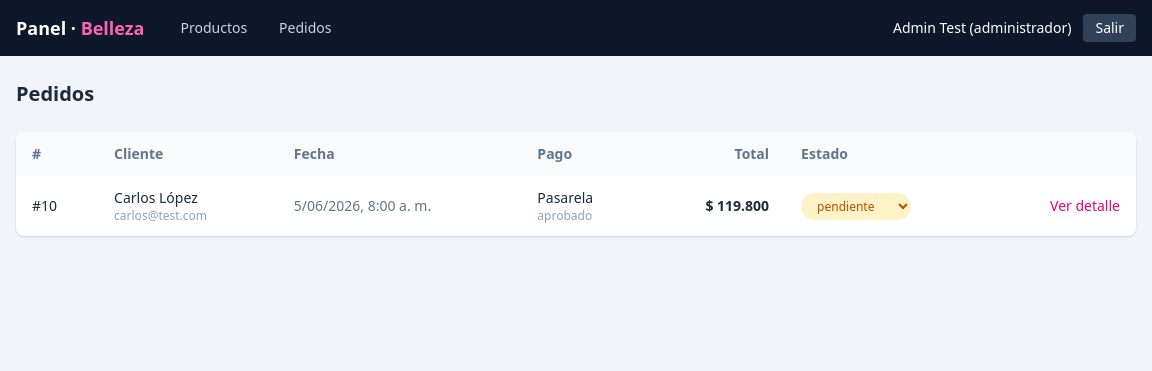
it: OrdersAdminPage › expande el detalle del pedido al hacer clic en 'Ver detalle'
The image size is (1152, 371).
Click the button "Ver detalle" at x=1085, y=206, box [1050, 196, 1120, 216]
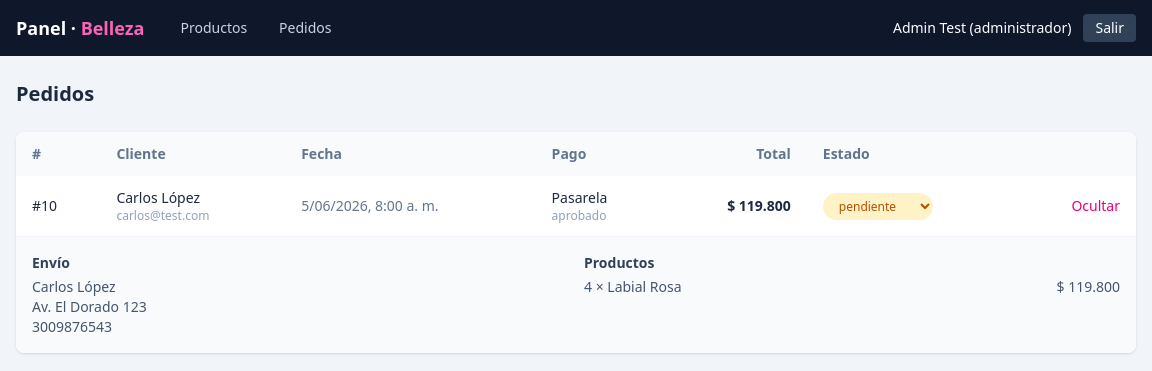
Now the text "4 × Labial Rosa" is shown, box [584, 277, 682, 297]
Now the text "Av. El Dorado 123" is shown, box [32, 297, 147, 316]
